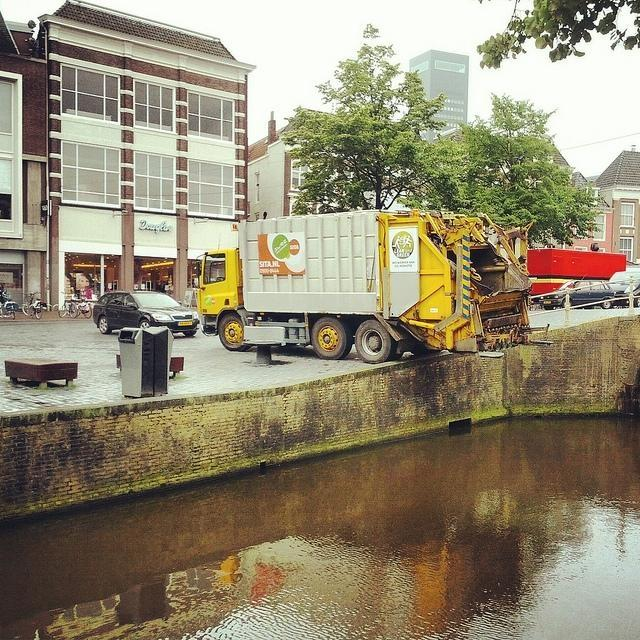bicycle: (21, 292, 42, 320), (71, 292, 93, 318), (58, 292, 78, 318)
car: (93, 289, 200, 337), (538, 280, 614, 312), (4, 300, 22, 311)
truck: (196, 208, 554, 362), (526, 244, 626, 295)
